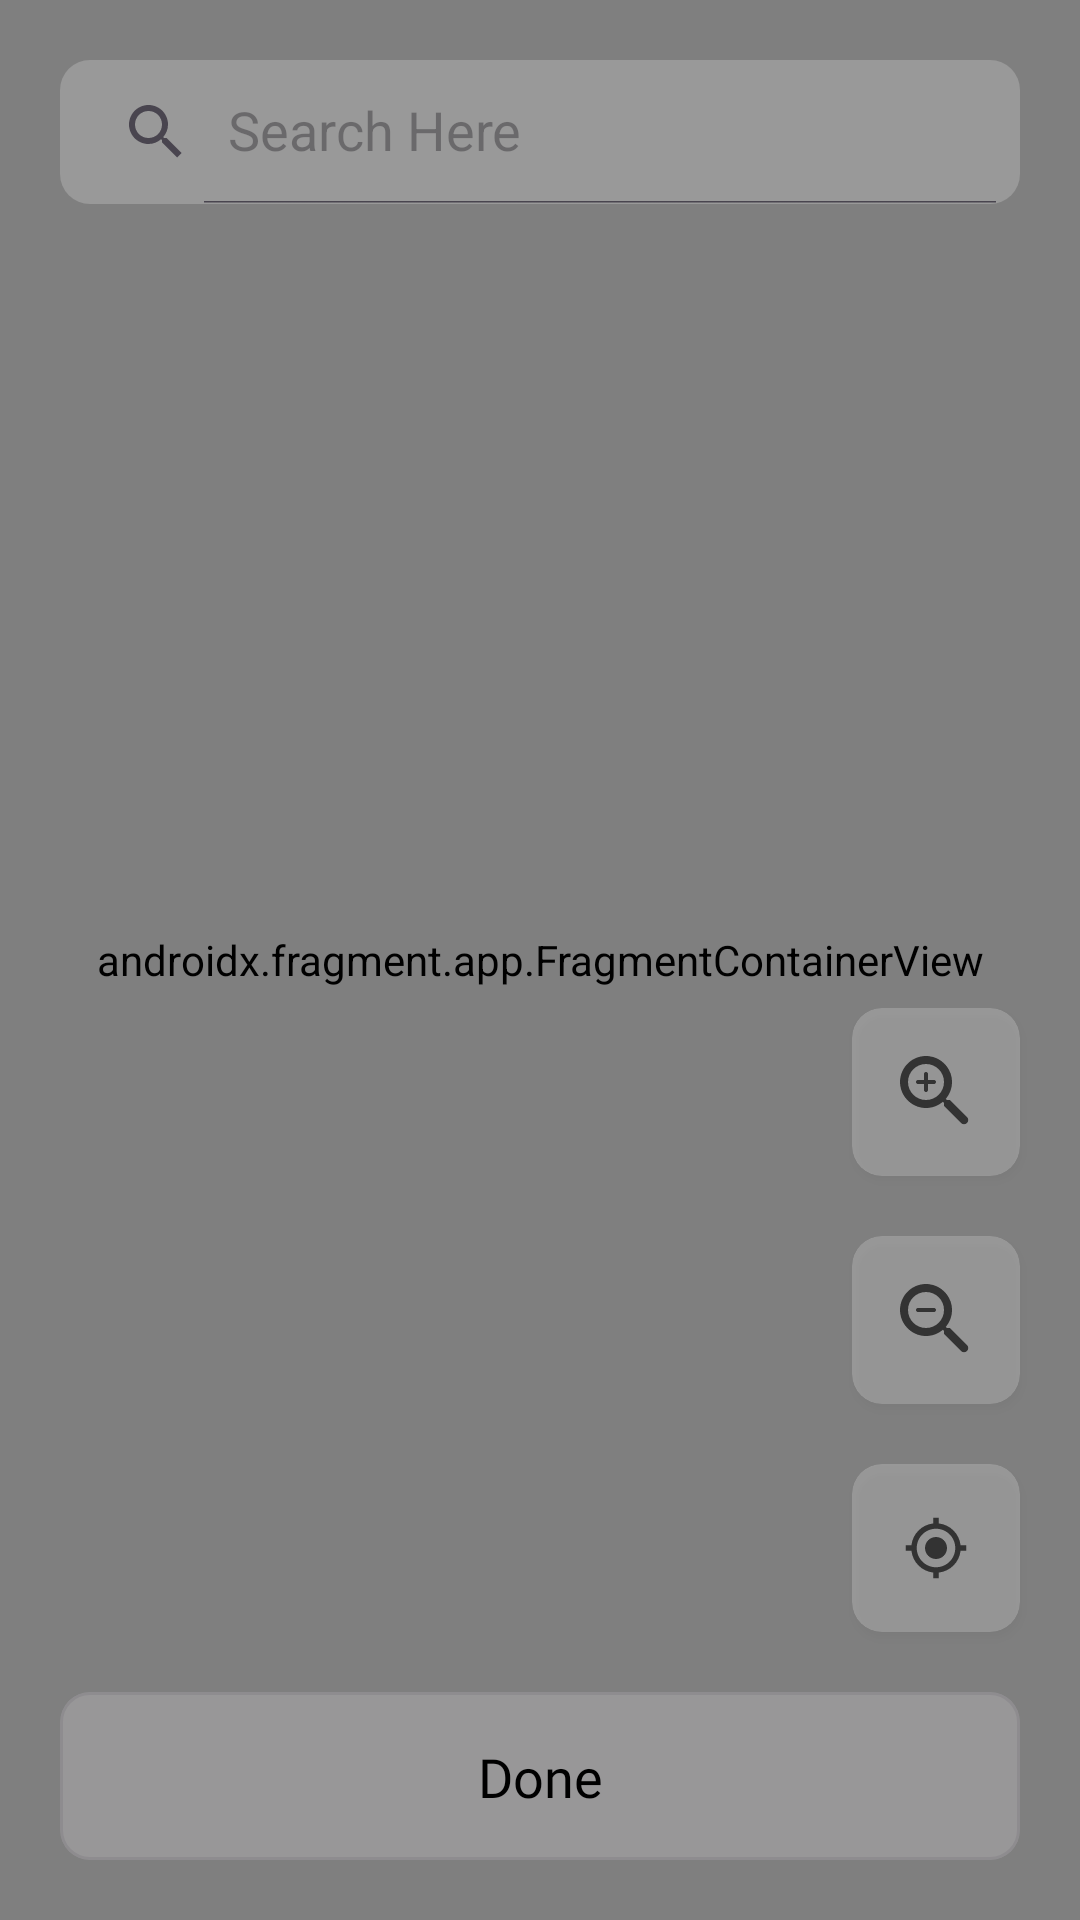

Icon click points for this 1080px x 1920px phone screenshot, format (x=x, y=y):
location: (x=936, y=1548)
zoom in: (x=934, y=1090)
zoom out: (x=934, y=1318)
